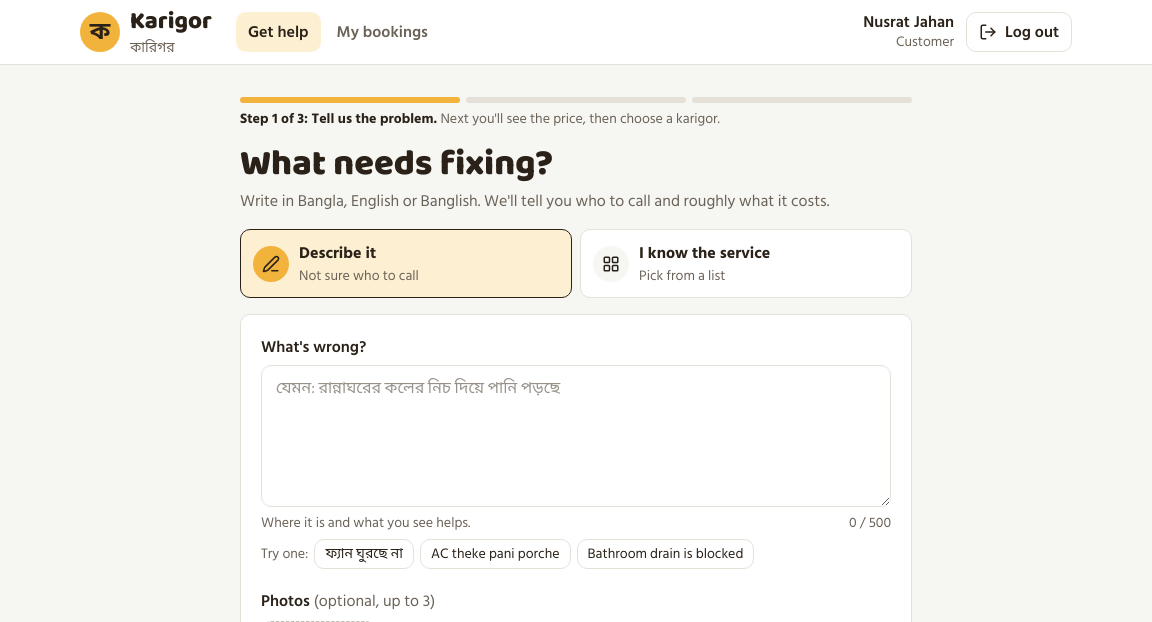
describe it › sends a written problem and opens the result
Type "fan ghurche na" into the text box labelled "What's wrong?". click: (576, 436)
box: [261,365,891,507]
(page scrolled)
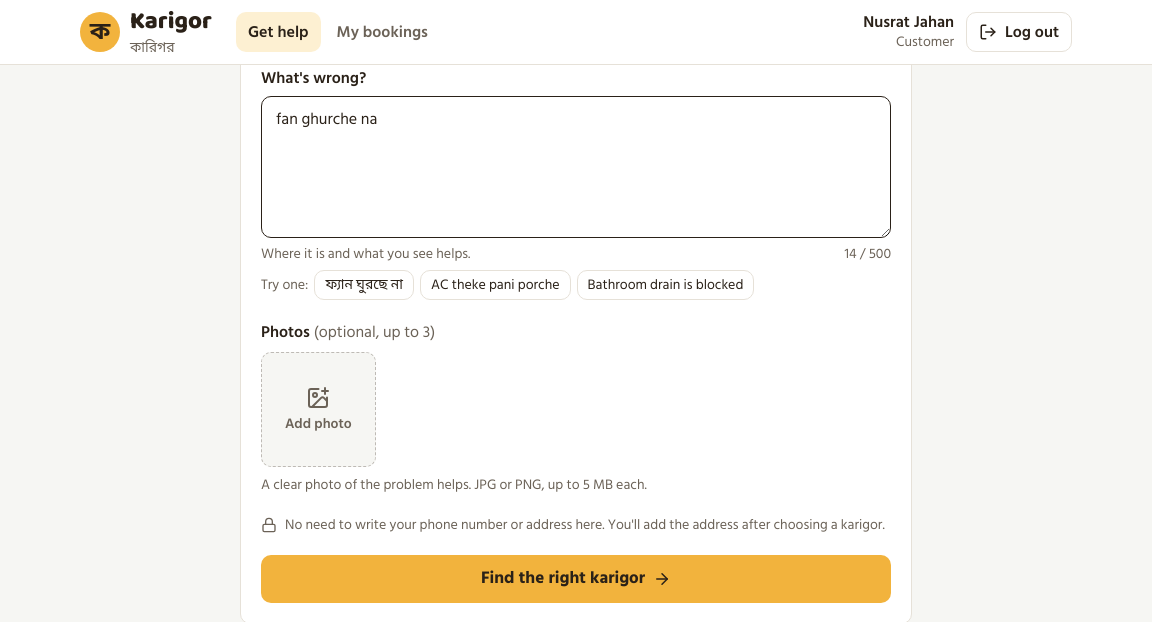
Click the button "Find the right karigor". click: (576, 579)
box: [261,555,891,603]
(page scrolled)
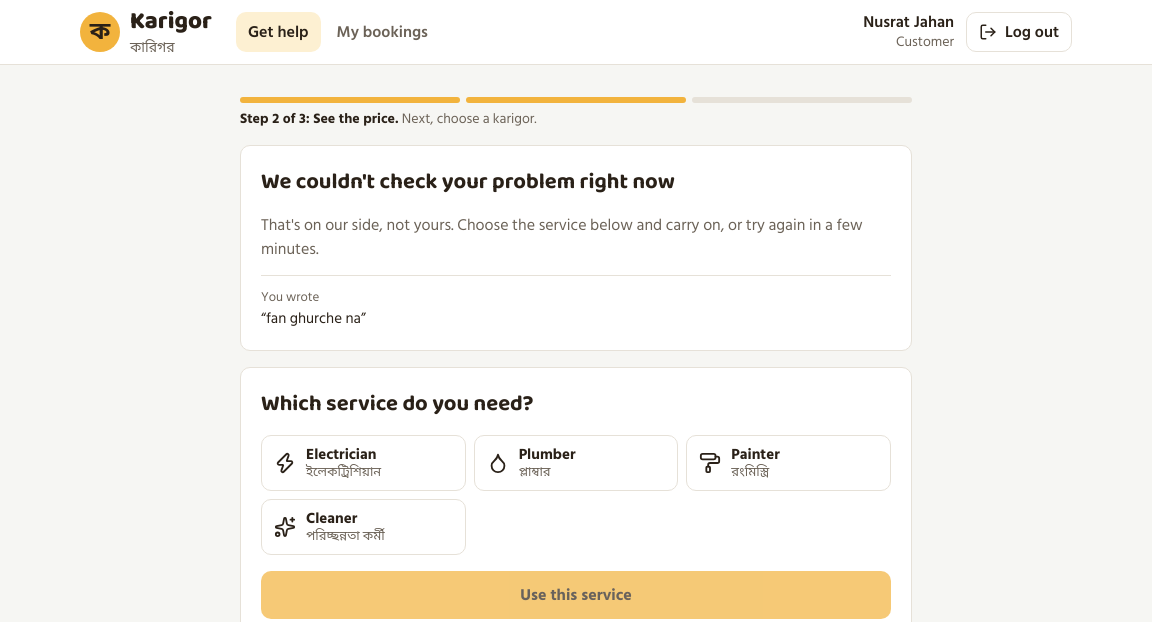
Expected: the text "fan ghurche na" is shown, [261,306,366,330]
